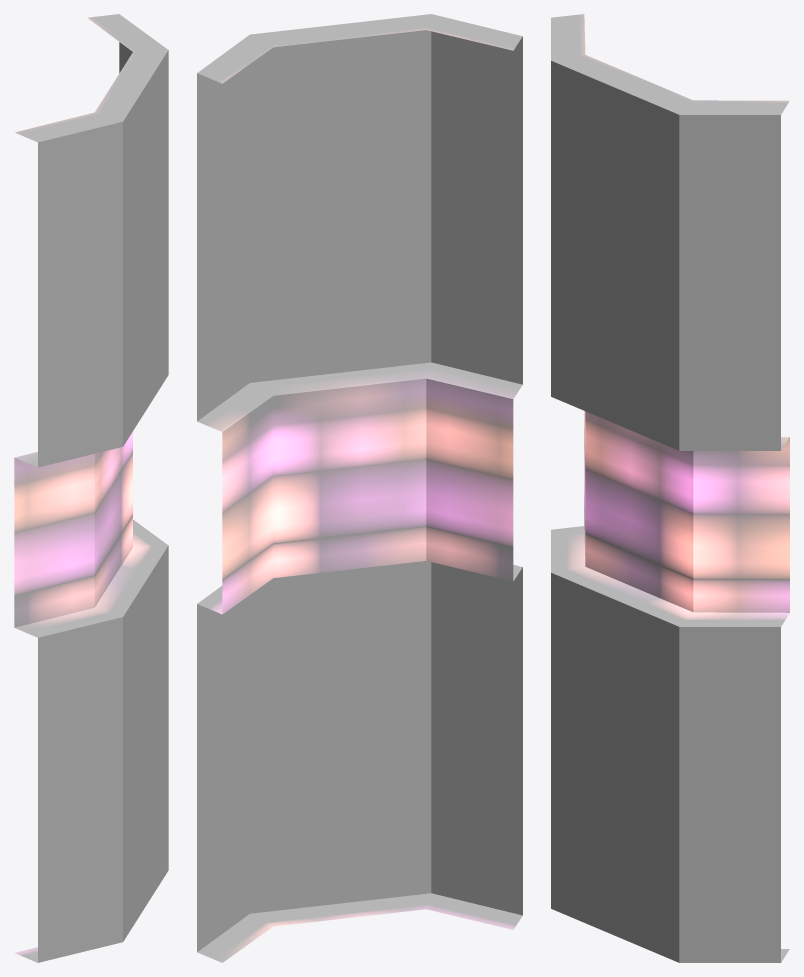
File: BuildingBaseCorner.fbx
The picture shows the model from 3 angles, left to right: view 1: azimuth 30°, elevation 25°; view 2: azimuth 150°, elevation 25°; view 3: azimuth 270°, elevation 25°; orthographic projection. The views are drawn at different scales.
Visible parts, largest first — view 1: BuildingBase; view 2: BuildingBase; view 3: BuildingBase.
Part boxes in pixels (x1=…): BuildingBase: x1=14, y1=14, x2=168, y2=962; BuildingBase: x1=197, y1=14, x2=522, y2=962; BuildingBase: x1=551, y1=14, x2=789, y2=962.
Size of the model in its own units: 52.82 by 207 by 52.82.
